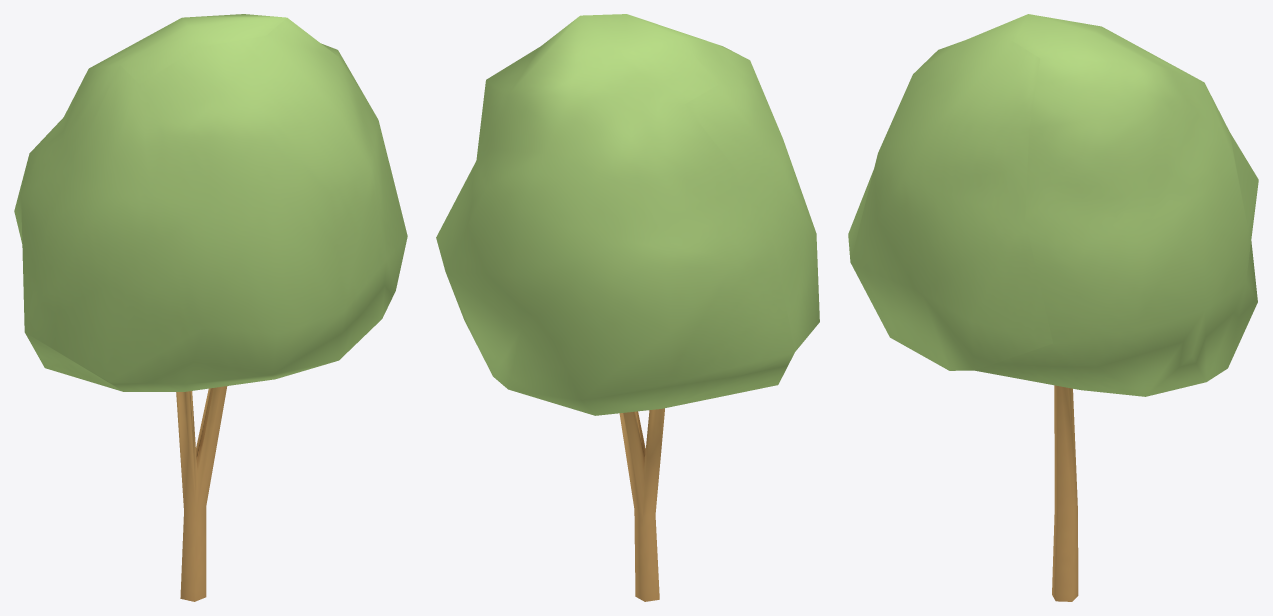
3 views of the same model, side by side, from view 1: azimuth 30°, elevation 25°; view 2: azimuth 150°, elevation 25°; view 3: azimuth 270°, elevation 25° (orthographic). The views are drawn at different scales.
Parts seen in each view (by area): view 1: Plod; view 2: Plod; view 3: Plod.
Part boxes in pixels (x1,y1,x2,y2): Plod: (14,14,407,601); Plod: (436,14,819,601); Plod: (848,14,1258,601).
Bounding box in the file's own units: 12.93 × 19.73 × 12.67.
Materials: 1 (1 with a texture image).
